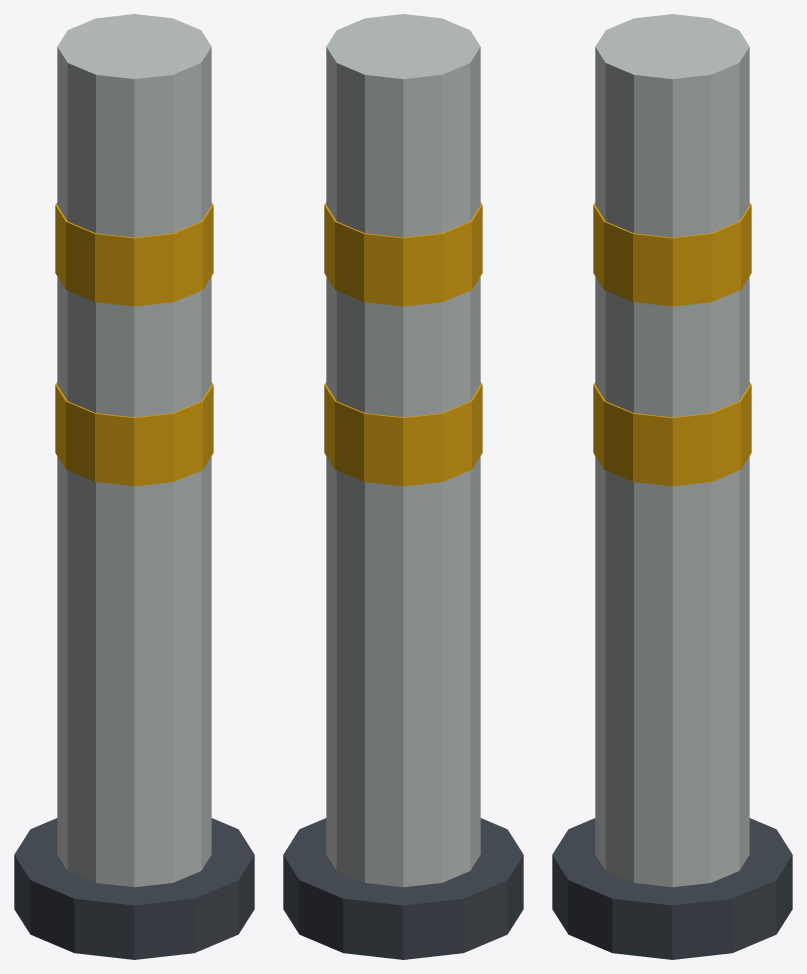
The model's file is BollardWhite.fbx.
The picture shows the model from 3 angles, left to right: view 1: azimuth 30°, elevation 25°; view 2: azimuth 150°, elevation 25°; view 3: azimuth 270°, elevation 25°; orthographic projection.
Visible parts, largest first — view 1: BollardWhite; view 2: BollardWhite; view 3: BollardWhite.
Part boxes in pixels (<box>): BollardWhite: <box>14,14,254,959</box>; BollardWhite: <box>283,14,523,959</box>; BollardWhite: <box>552,14,792,959</box>.
Size of the model in its own units: 24 by 95 by 24.
1 material, 1 textured.
